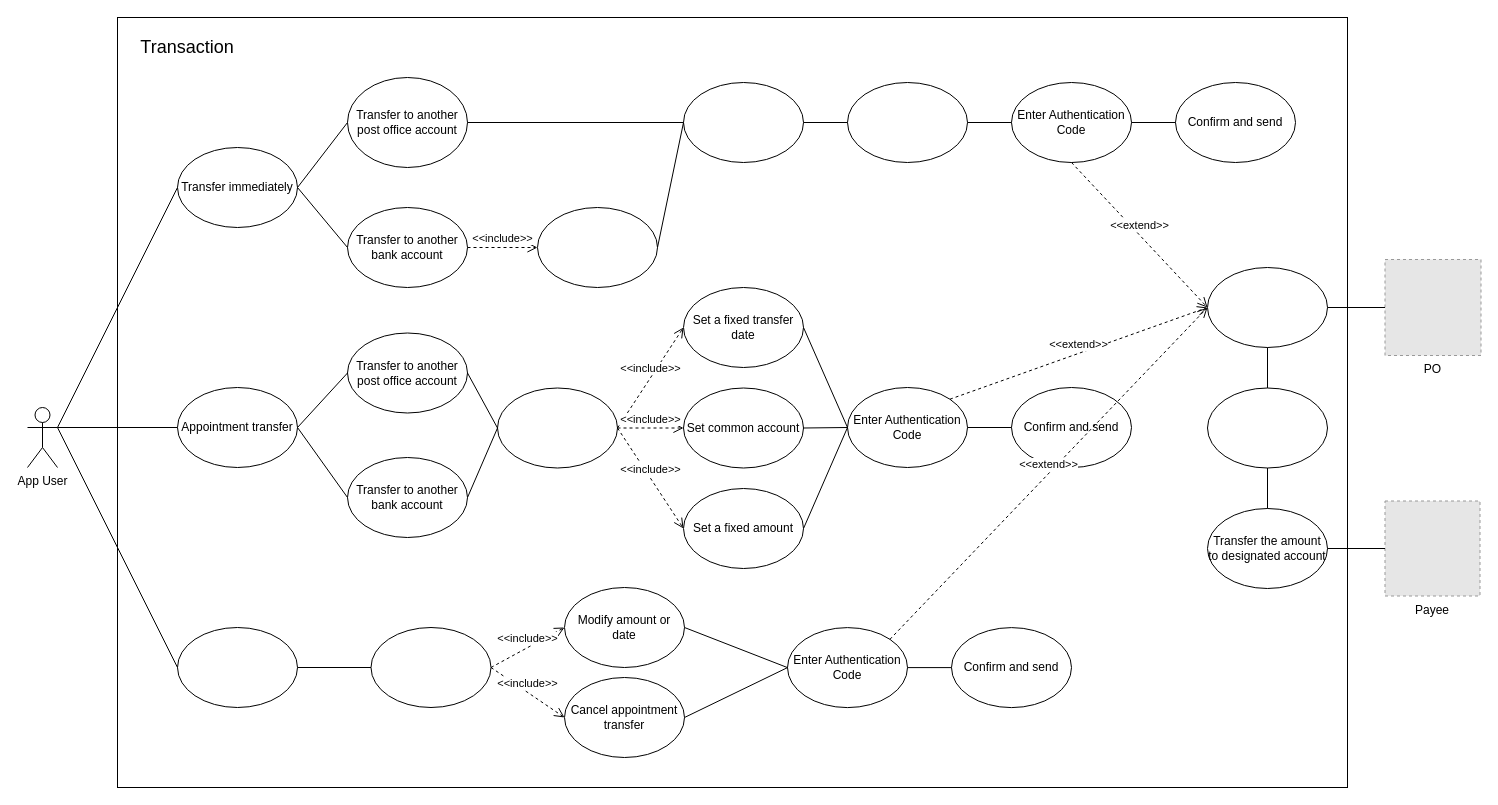
This 1498x805 diagram has some shape labels left out. Grey dashed boxes stand in for pictures. The centre of each missing label's shape, as x and y in pixels:
"Appointment transfer inquiry and revocation" belongs at [237,667].
"Browse all transfer transactions" belongs at [430,667].
"Deduct money and fee from the account" belongs at [1267,427].
"Enter bank code" belongs at [597,247].
"Enter the transfer account" belongs at [743,122].
"Enter transfer amount" belongs at [907,122].
"Send Authentication code to the phone" belongs at [1267,307].
"Set a fixed transfer" belongs at [557,427].
